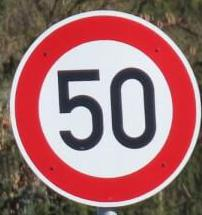Speed Limit -50-: (0, 1, 201, 214)
